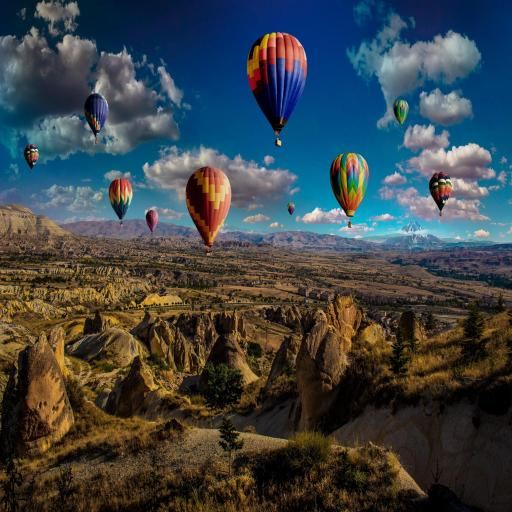hot air ballon: (245, 27, 310, 149), (183, 163, 232, 257), (329, 149, 369, 233), (426, 166, 454, 221), (84, 90, 110, 144), (108, 174, 131, 228), (390, 97, 412, 128), (143, 209, 161, 237), (24, 138, 38, 172), (287, 198, 296, 221)
